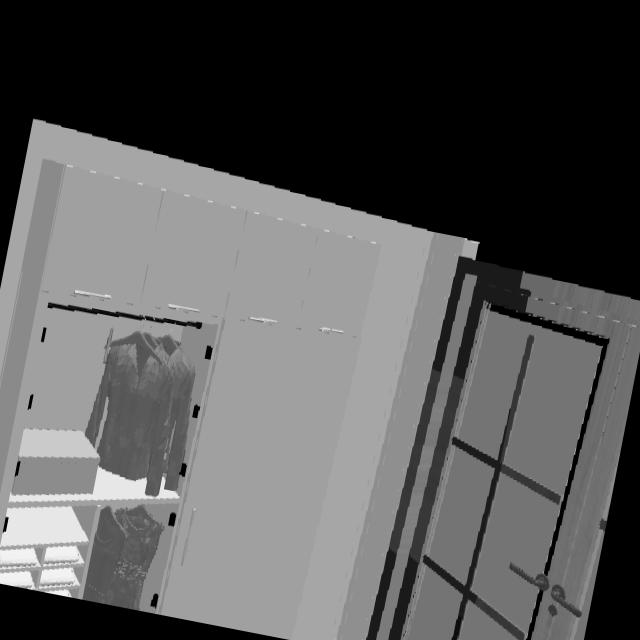wardrobe: (0, 161, 381, 640)
